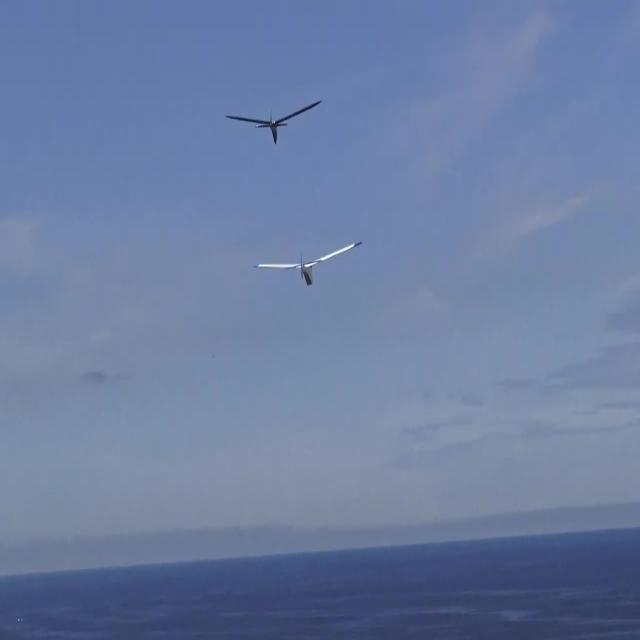iha: (285, 232, 332, 281), (258, 33, 291, 82)
